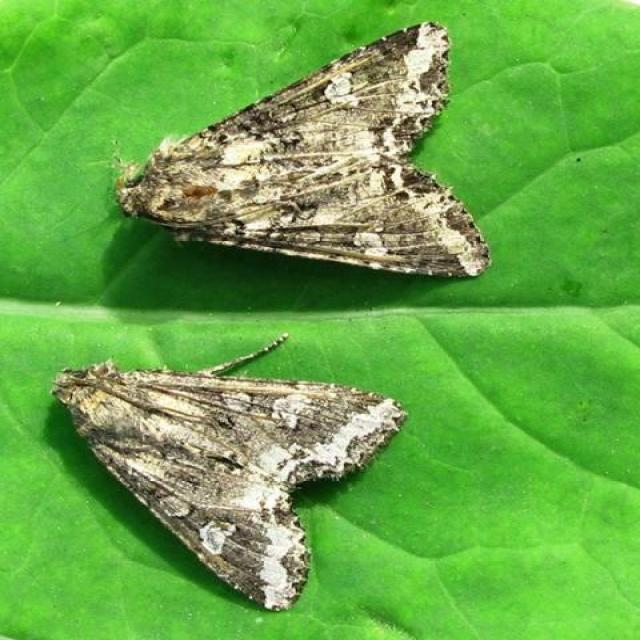army worm: (107, 23, 499, 287), (41, 351, 417, 609)
